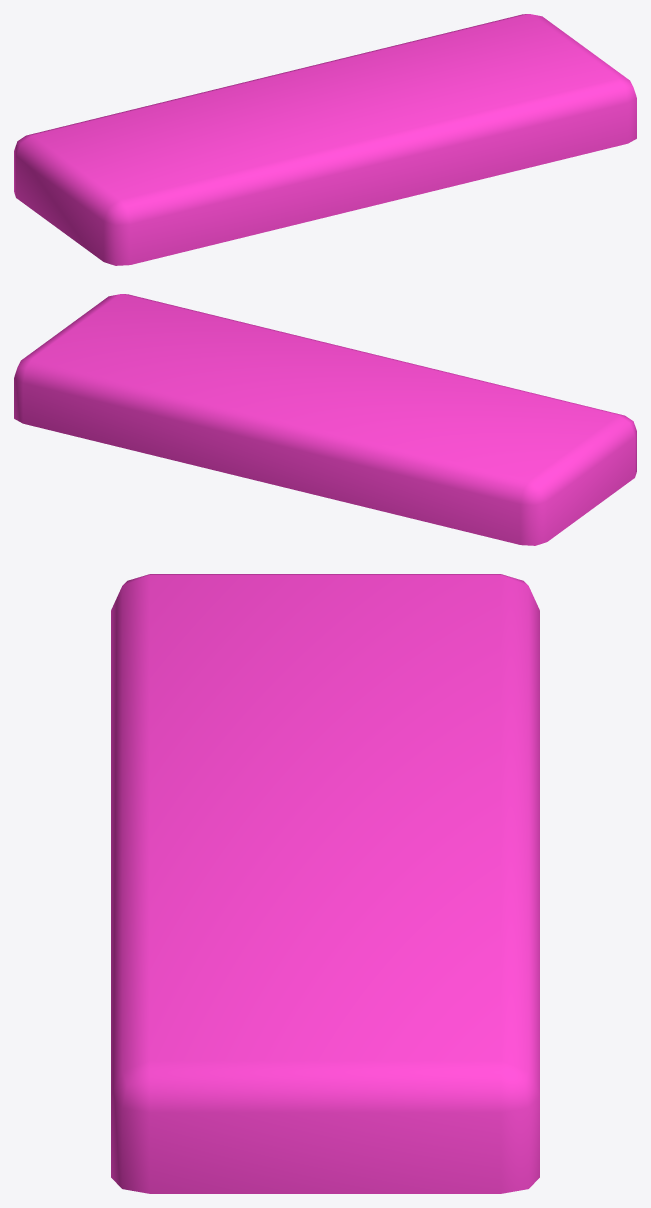
Rendered from button_rectangle_purple.glb.
3 renders of one model, top to bottom at view 1: azimuth 30°, elevation 25°; view 2: azimuth 150°, elevation 25°; view 3: azimuth 270°, elevation 25°, orthographic. The views are drawn at different scales.
Parts seen in each view (by area): view 1: Cube.011; view 2: Cube.011; view 3: Cube.011.
Boxes of the visible parts, x1,y1,x2,y2 form: Cube.011: (14, 14, 636, 265); Cube.011: (14, 294, 636, 545); Cube.011: (111, 574, 539, 1193).
Size of what is drawn, in the model's own units: 0.3845 by 0.0403 by 0.1345.
Materials: 1 (1 with a texture image).
